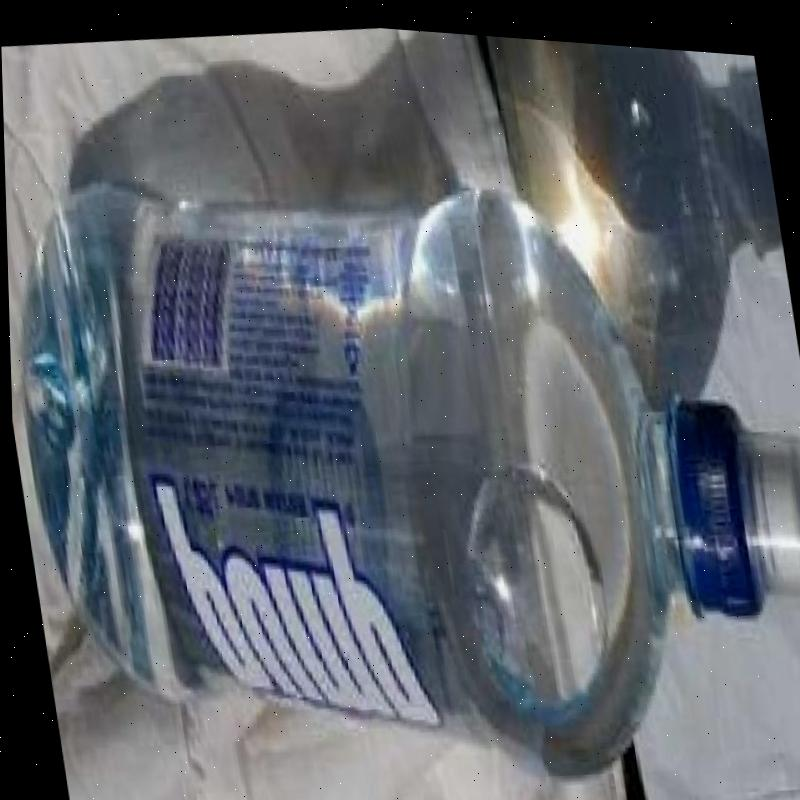botella: (2, 82, 800, 800)
